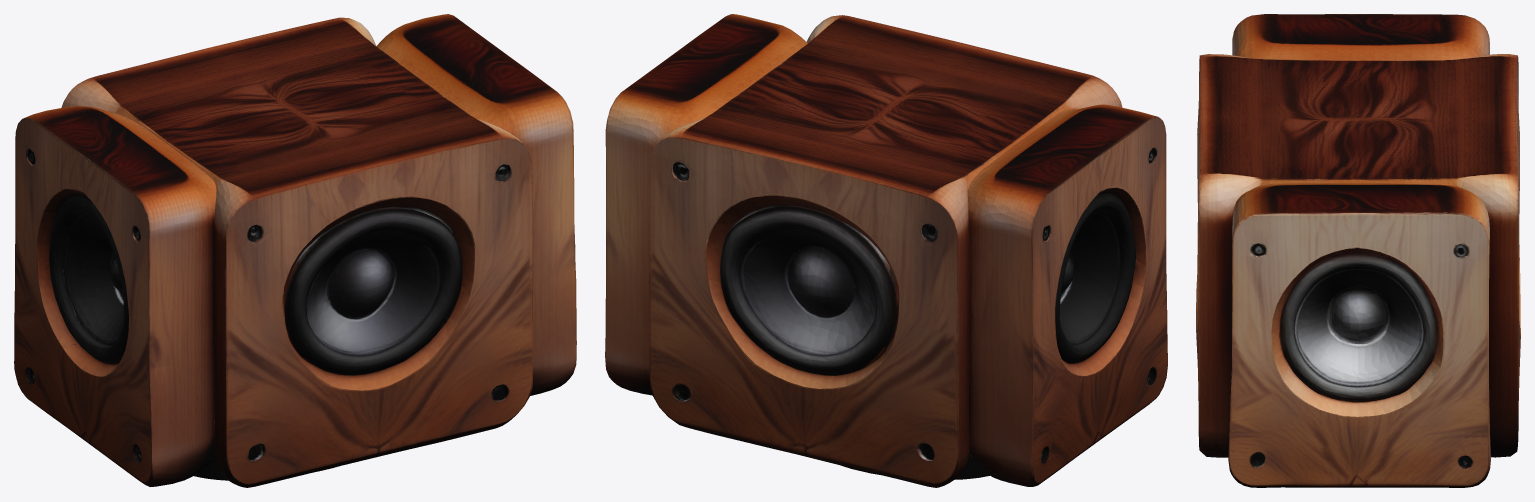
File: wooden-speaker-3d.jpeg.glb
The picture shows the model from 3 angles, left to right: view 1: azimuth 30°, elevation 25°; view 2: azimuth 150°, elevation 25°; view 3: azimuth 270°, elevation 25°; orthographic projection. The views are drawn at different scales.
Visible parts, largest first — view 1: world; view 2: world; view 3: world.
Part boxes in pixels (box(x1,y1,x2,y2)): world: box(14, 14, 576, 487); world: box(605, 14, 1167, 487); world: box(1196, 14, 1520, 487).
Bounding box in the file's own units: 0.9997 × 0.7078 × 0.6817.
1 material, 1 textured.
